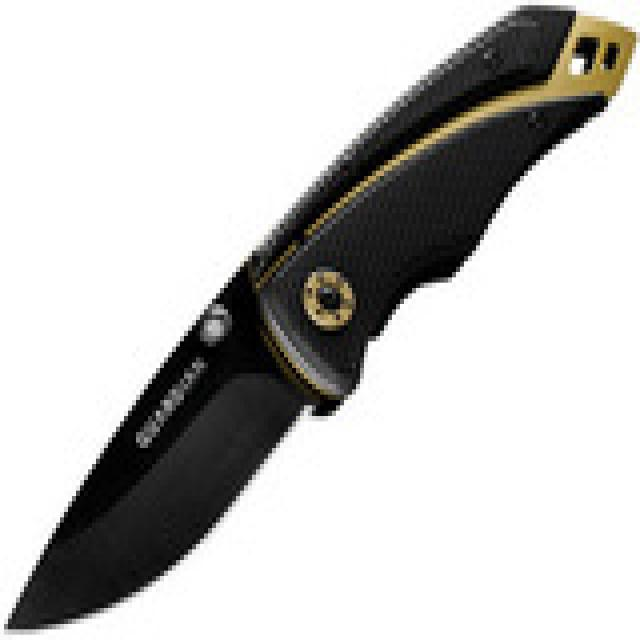Knife: (13, 5, 636, 622)
